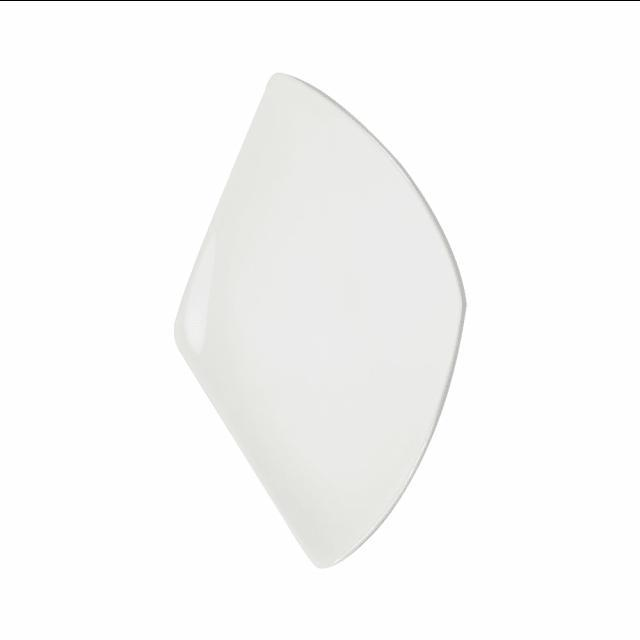Plate: (91, 0, 521, 636)
